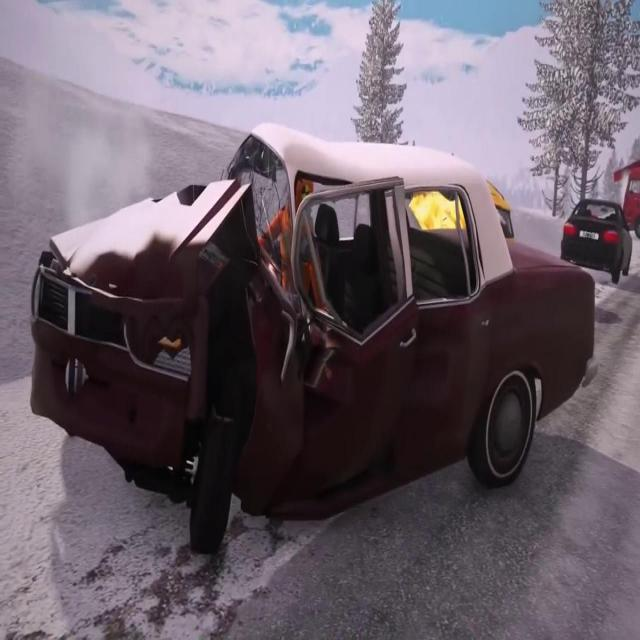accident: (23, 114, 603, 568)
